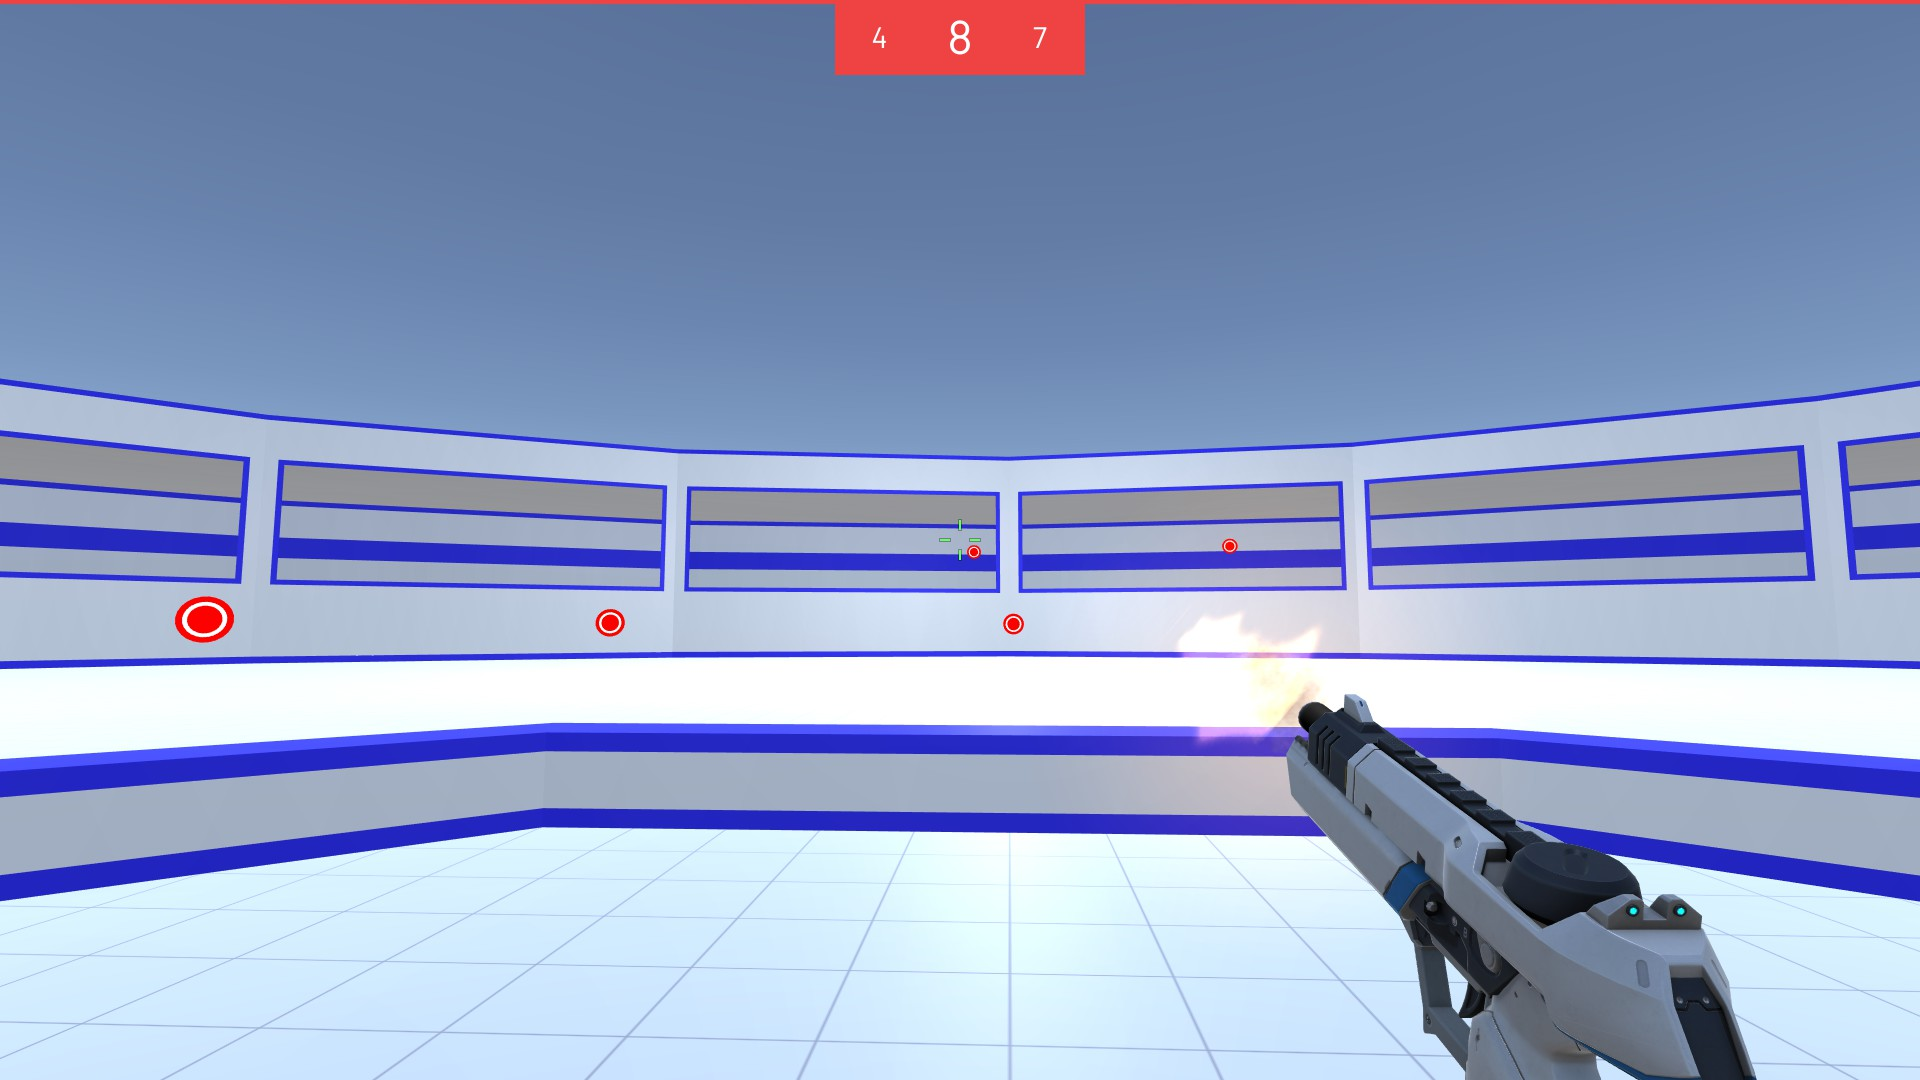target: (171, 597, 236, 644), (589, 607, 626, 636), (1002, 612, 1026, 637), (1221, 539, 1240, 554), (965, 545, 982, 558)
